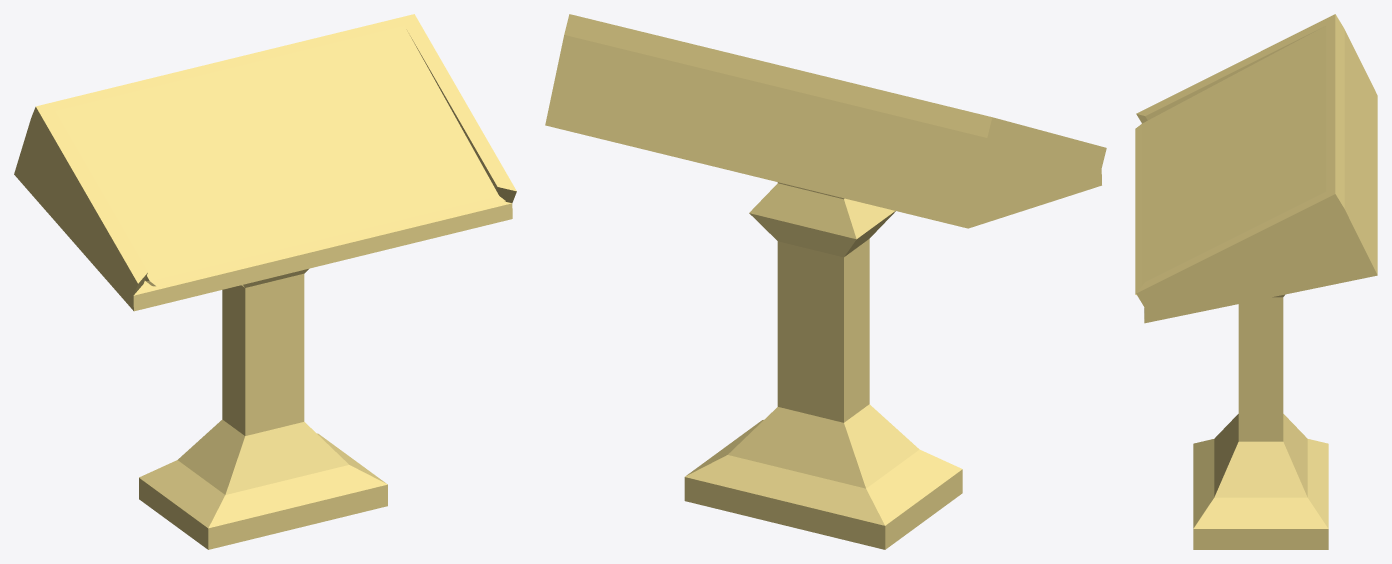
Rendered from Display Case.001.fbx.
The picture shows the model from 3 angles, left to right: view 1: azimuth 30°, elevation 25°; view 2: azimuth 150°, elevation 25°; view 3: azimuth 270°, elevation 25°; orthographic projection. The views are drawn at different scales.
Visible parts, largest first — view 1: Display Case.001; view 2: Display Case.001; view 3: Display Case.001.
Part boxes in pixels (x1,y1,x2,y2): Display Case.001: (14,14,516,549); Display Case.001: (545,14,1106,549); Display Case.001: (1135,14,1377,549).
Bounding box in the file's own units: 147 × 154 × 83.9.
